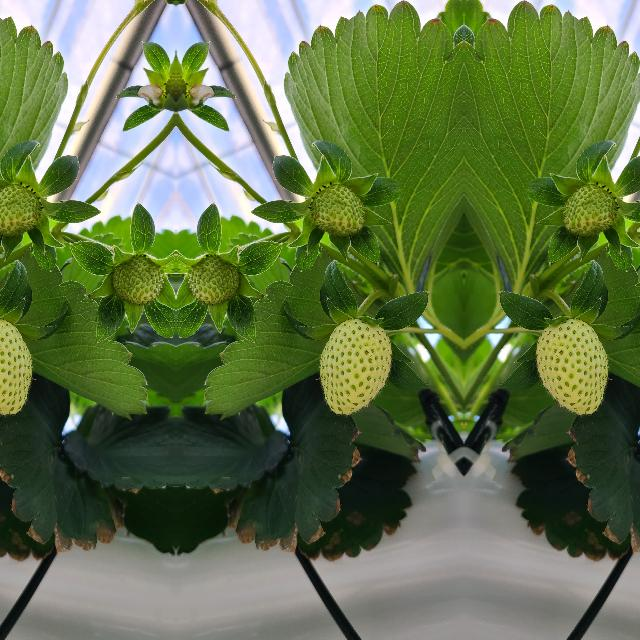Health_25: (318, 318, 390, 414), (536, 318, 608, 414), (307, 180, 367, 238), (559, 180, 619, 238), (0, 318, 32, 413), (188, 250, 240, 306), (110, 250, 162, 306), (0, 179, 43, 238)
